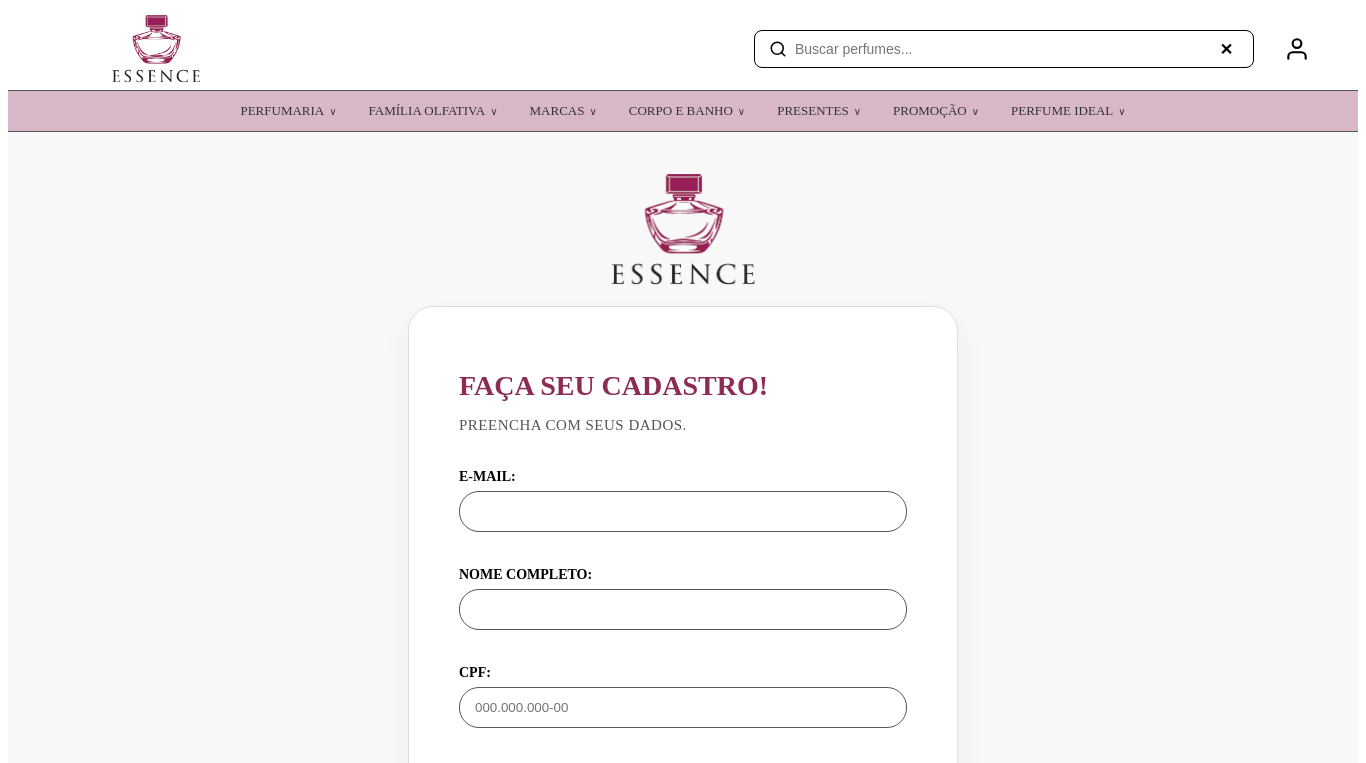
Scenario: Fluxo de Validação de Cadastro E2E › Deve mostrar erro se o e-mail já existir (Validação Backend com Mock)
# Preenche com dados VÁLIDOS para habilitar o botão
Step 1. Type "Novo Usuario" into the field labelled "NOME COMPLETO:" → [683, 610], box [459,589,907,630]
Step 2. Type "existente@email.com" into the field labelled "E-MAIL:" → [683, 512], box [459,491,907,532]
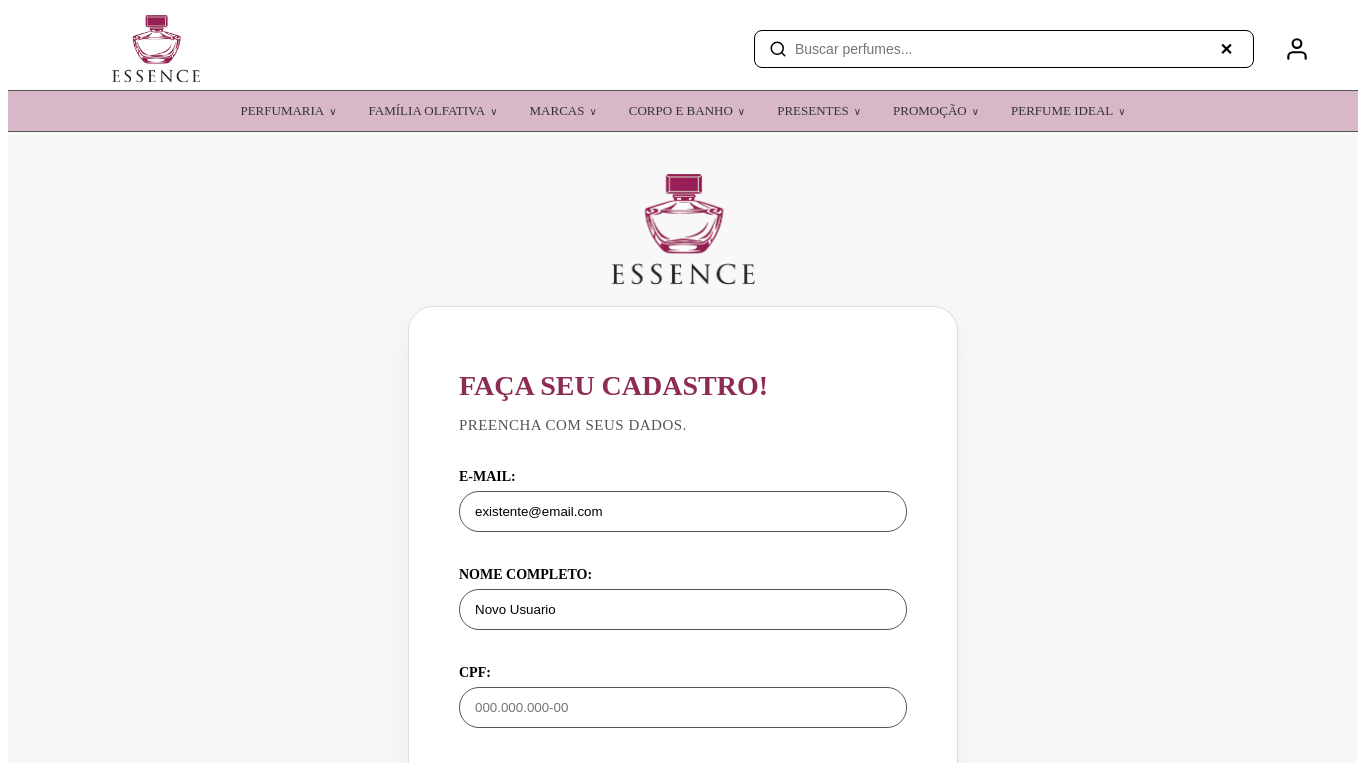
Step 3. Type "12345678901" into the field labelled "CPF:" → [683, 708], box [459,687,907,728]
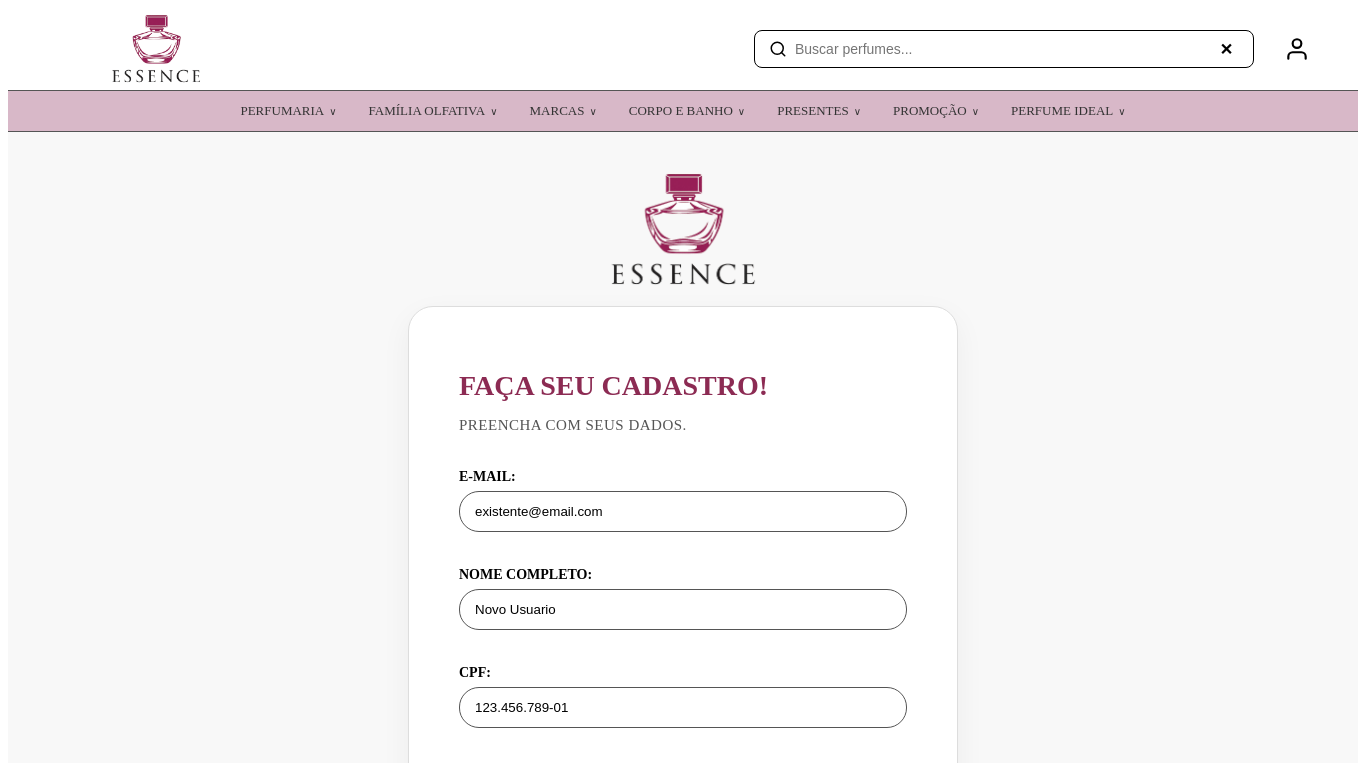
Step 4. Scroll
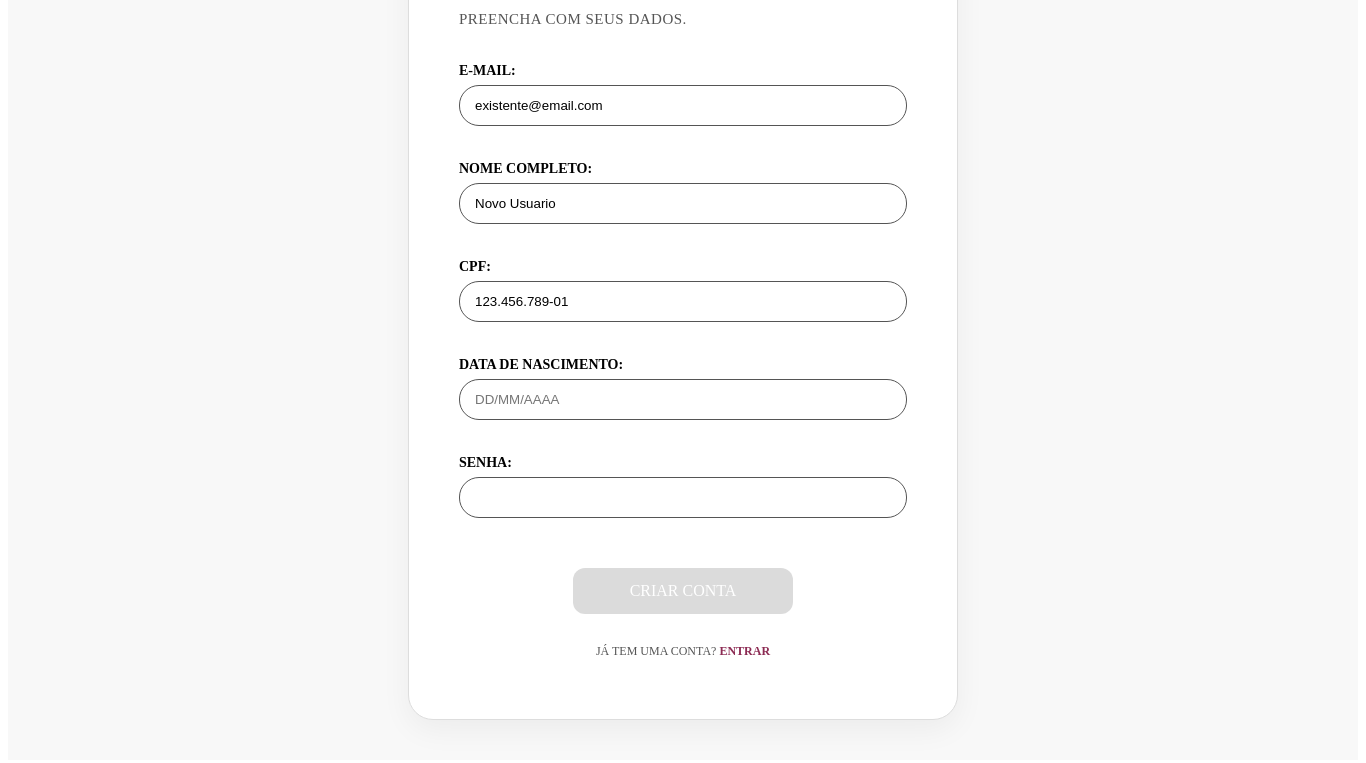
Step 5. Type "10101990" into the field labelled "DATA DE NASCIMENTO:" → [683, 400], box [459,379,907,420]
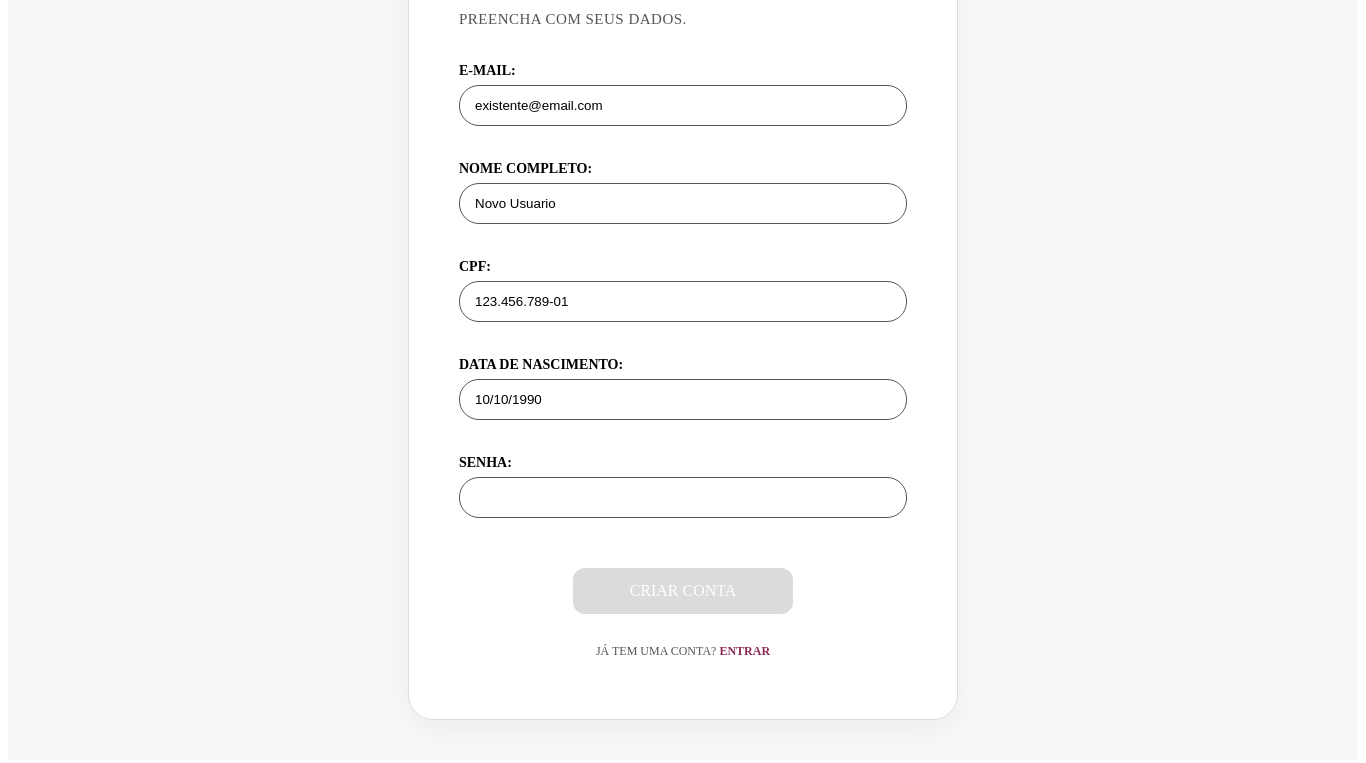
Step 6. Type "senha123" into the password field labelled "SENHA:" → [683, 498], box [459,477,907,518]
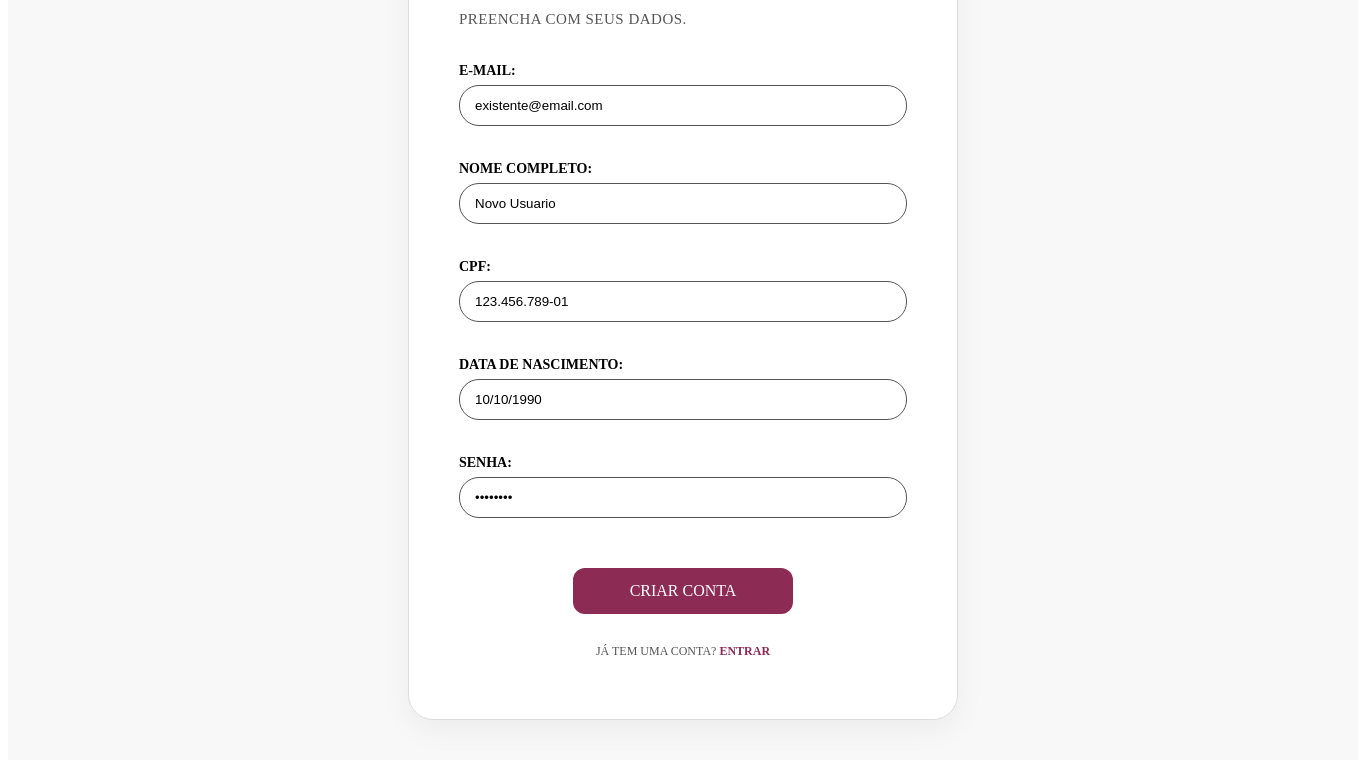
Expected: the submit button is enabled
# O botão deve estar habilitado, então clicamos
Step 7. Click the submit button → [683, 591], box [573,568,793,614]
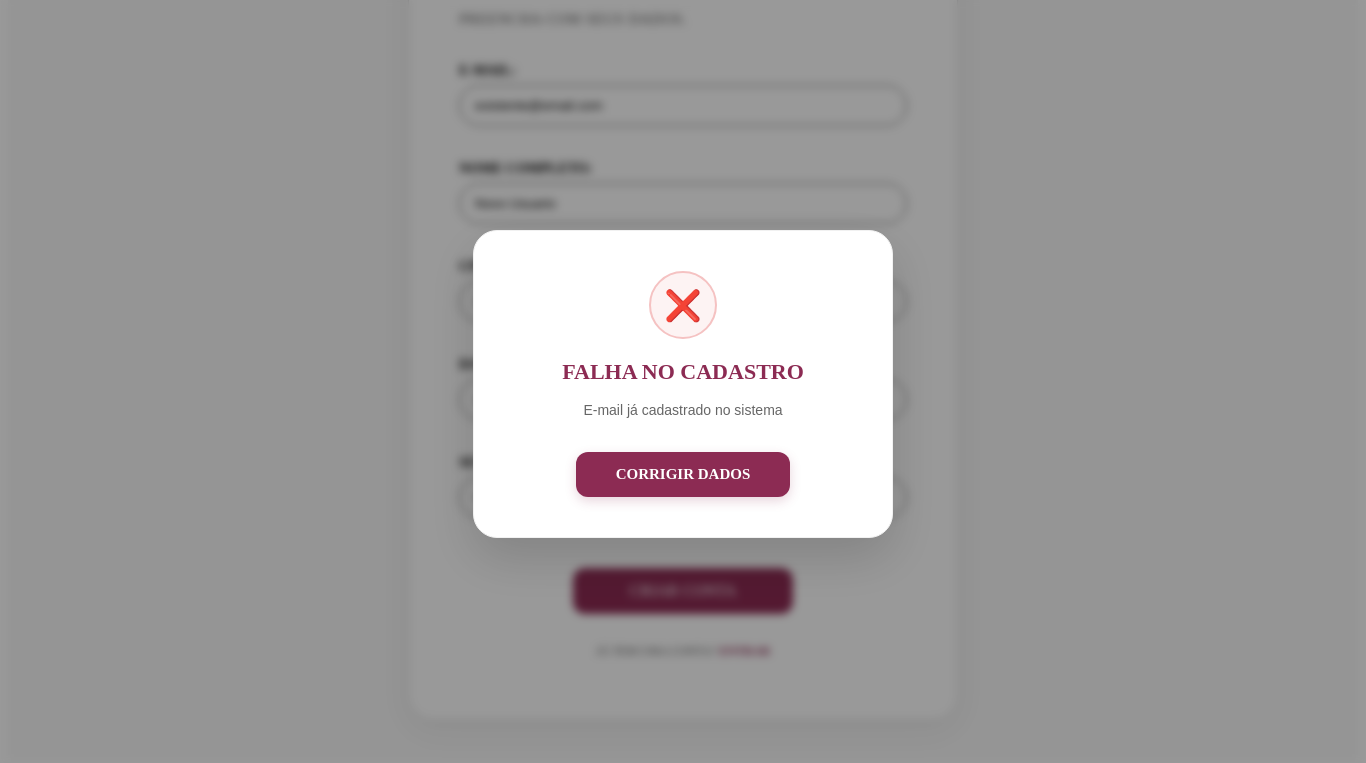
Expected: the heading "Falha no Cadastro" is shown, [562,359,804,384]
Expected: the text "E-mail já cadastrado no sistema" is shown, [583,402,783,418]
